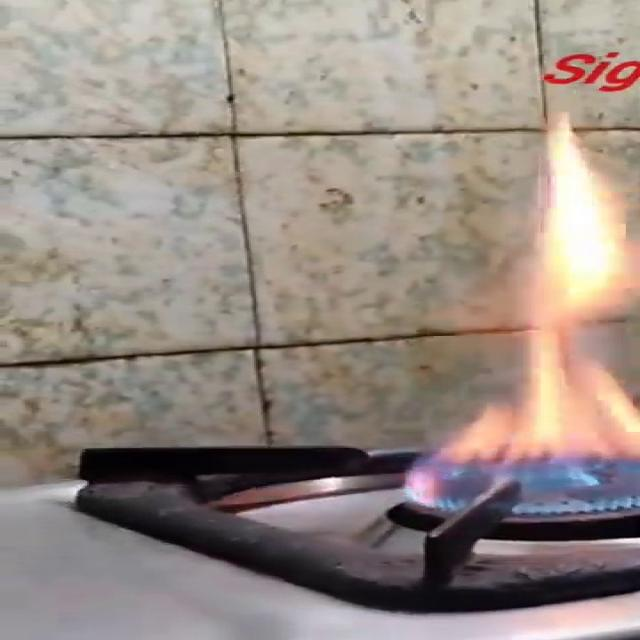fire: (433, 99, 640, 541)
